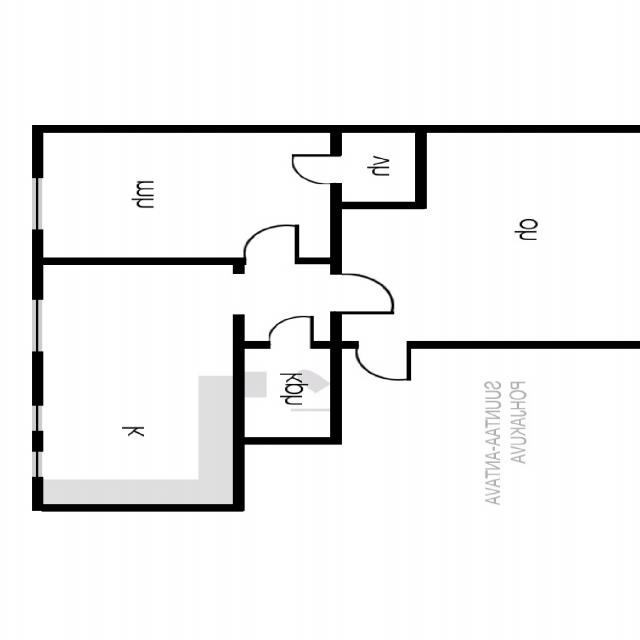door: (331, 274, 400, 312), (358, 341, 409, 382), (247, 225, 297, 265), (269, 312, 313, 349), (290, 156, 342, 183)
